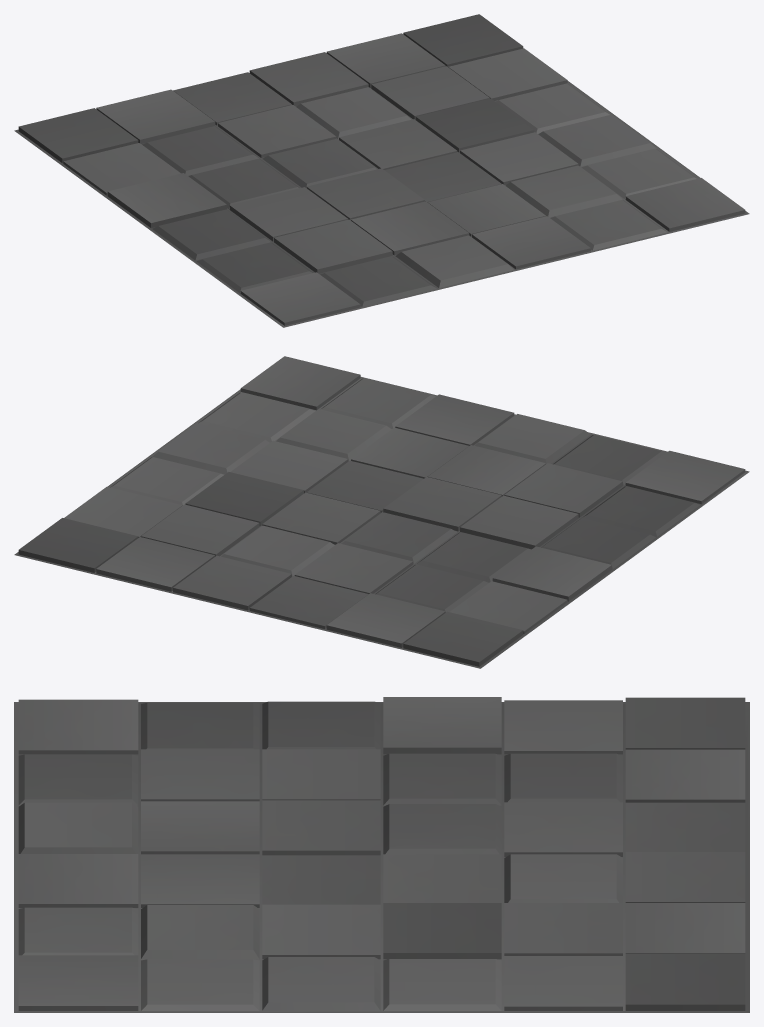
Rendered from Floor_01.fbx.
3 views of the same model, one above another, from view 1: azimuth 30°, elevation 25°; view 2: azimuth 150°, elevation 25°; view 3: azimuth 270°, elevation 25° (orthographic). The views are drawn at different scales.
Visible parts, largest first — view 1: Floor_01; view 2: Floor_01; view 3: Floor_01.
Boxes of the visible parts, box(x1,y1,x2,y2) form: Floor_01: box(14, 14, 749, 327); Floor_01: box(14, 356, 749, 668); Floor_01: box(14, 697, 749, 1012).
Bounding box in the file's own units: 280 × 2.87 × 280.
